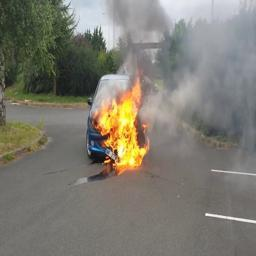fire: (93, 74, 150, 169)
